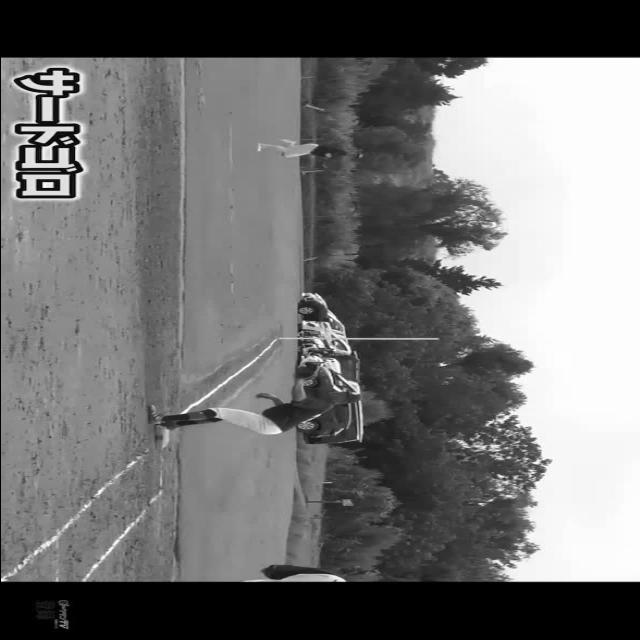base: (154, 421, 168, 451)
baseball_glove: (286, 364, 322, 384)
shoe: (142, 404, 166, 426), (162, 422, 181, 434)
